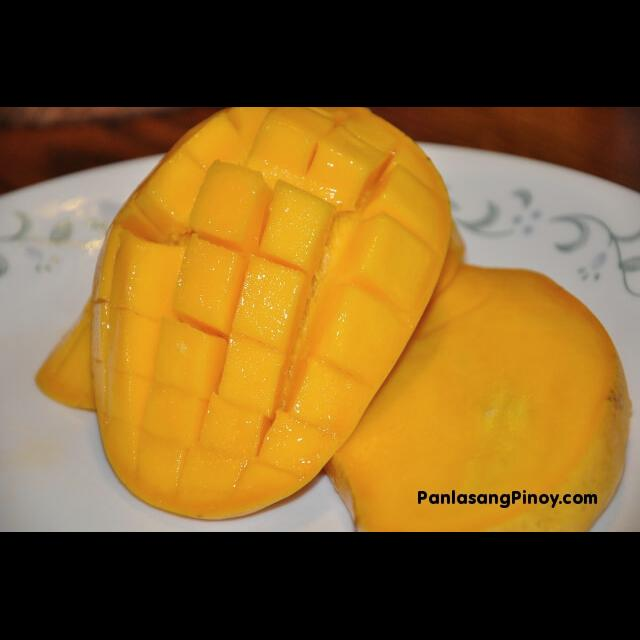mango: (79, 108, 467, 526)
